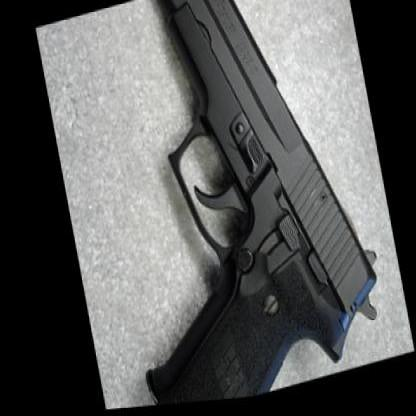pistol: (75, 0, 392, 409)
